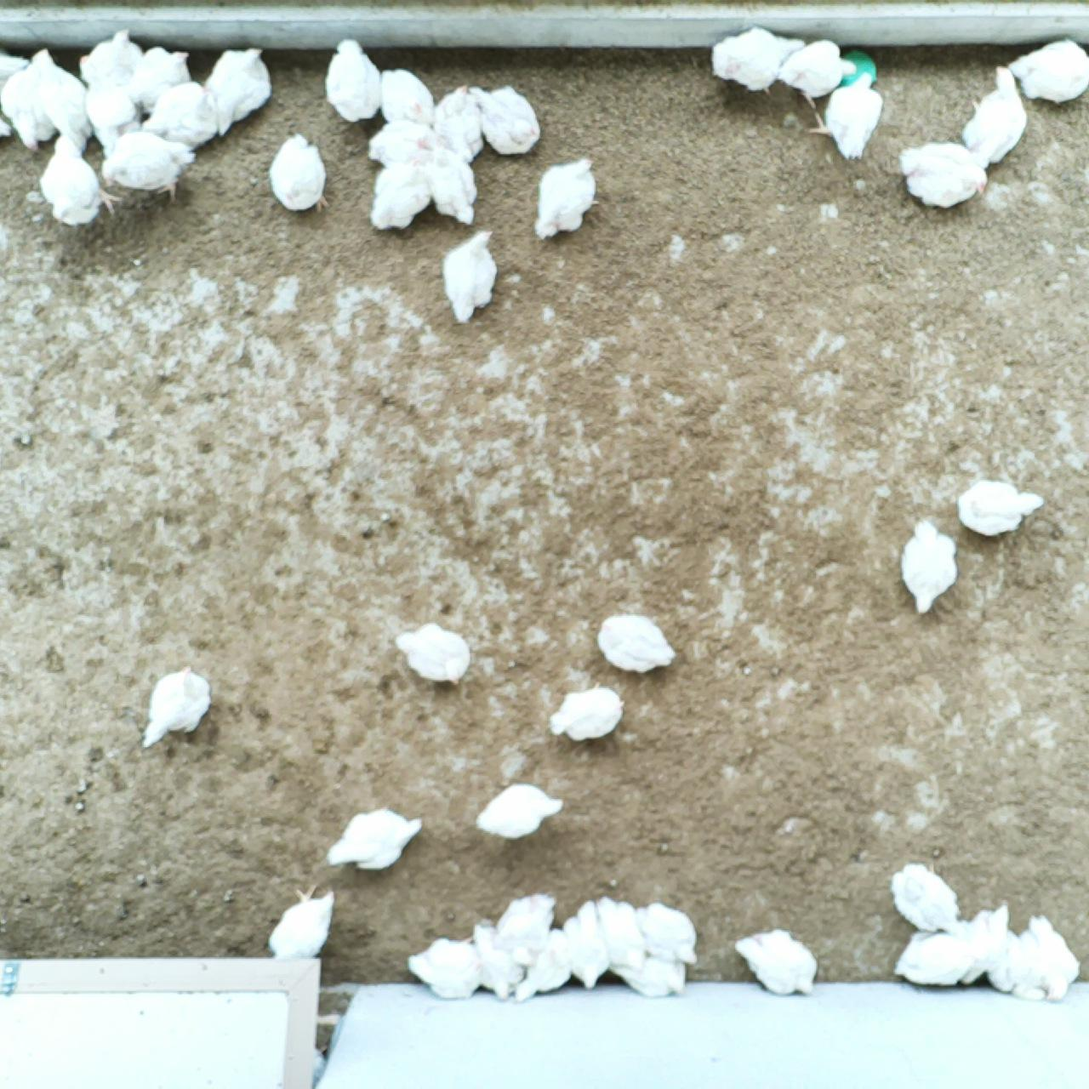chicken: (957, 63, 1028, 168), (100, 128, 203, 200), (807, 73, 886, 163), (266, 881, 344, 971), (41, 133, 116, 226), (709, 26, 805, 98), (899, 139, 989, 211), (893, 520, 962, 612), (204, 43, 273, 134), (442, 228, 506, 324), (138, 665, 212, 748), (533, 154, 601, 243), (139, 74, 215, 153), (326, 807, 421, 870), (390, 618, 473, 690), (1011, 913, 1081, 998), (37, 53, 96, 152), (954, 478, 1046, 541), (467, 81, 543, 157), (728, 933, 821, 995), (1003, 39, 1089, 106), (777, 35, 855, 108), (366, 159, 436, 235), (0, 50, 49, 157), (950, 906, 1012, 989), (476, 783, 566, 840), (555, 898, 610, 991), (597, 611, 678, 674), (405, 935, 482, 1001), (897, 926, 983, 985), (495, 885, 560, 963), (632, 896, 702, 968), (269, 136, 329, 217), (891, 865, 961, 933), (324, 37, 381, 120), (82, 73, 141, 151), (420, 149, 482, 223), (131, 44, 197, 113), (428, 85, 487, 162), (515, 929, 576, 1002), (553, 683, 623, 746), (470, 923, 525, 1001), (77, 27, 145, 90), (610, 942, 686, 997), (367, 116, 438, 173), (373, 65, 436, 129), (971, 931, 1029, 997), (597, 897, 643, 971)
